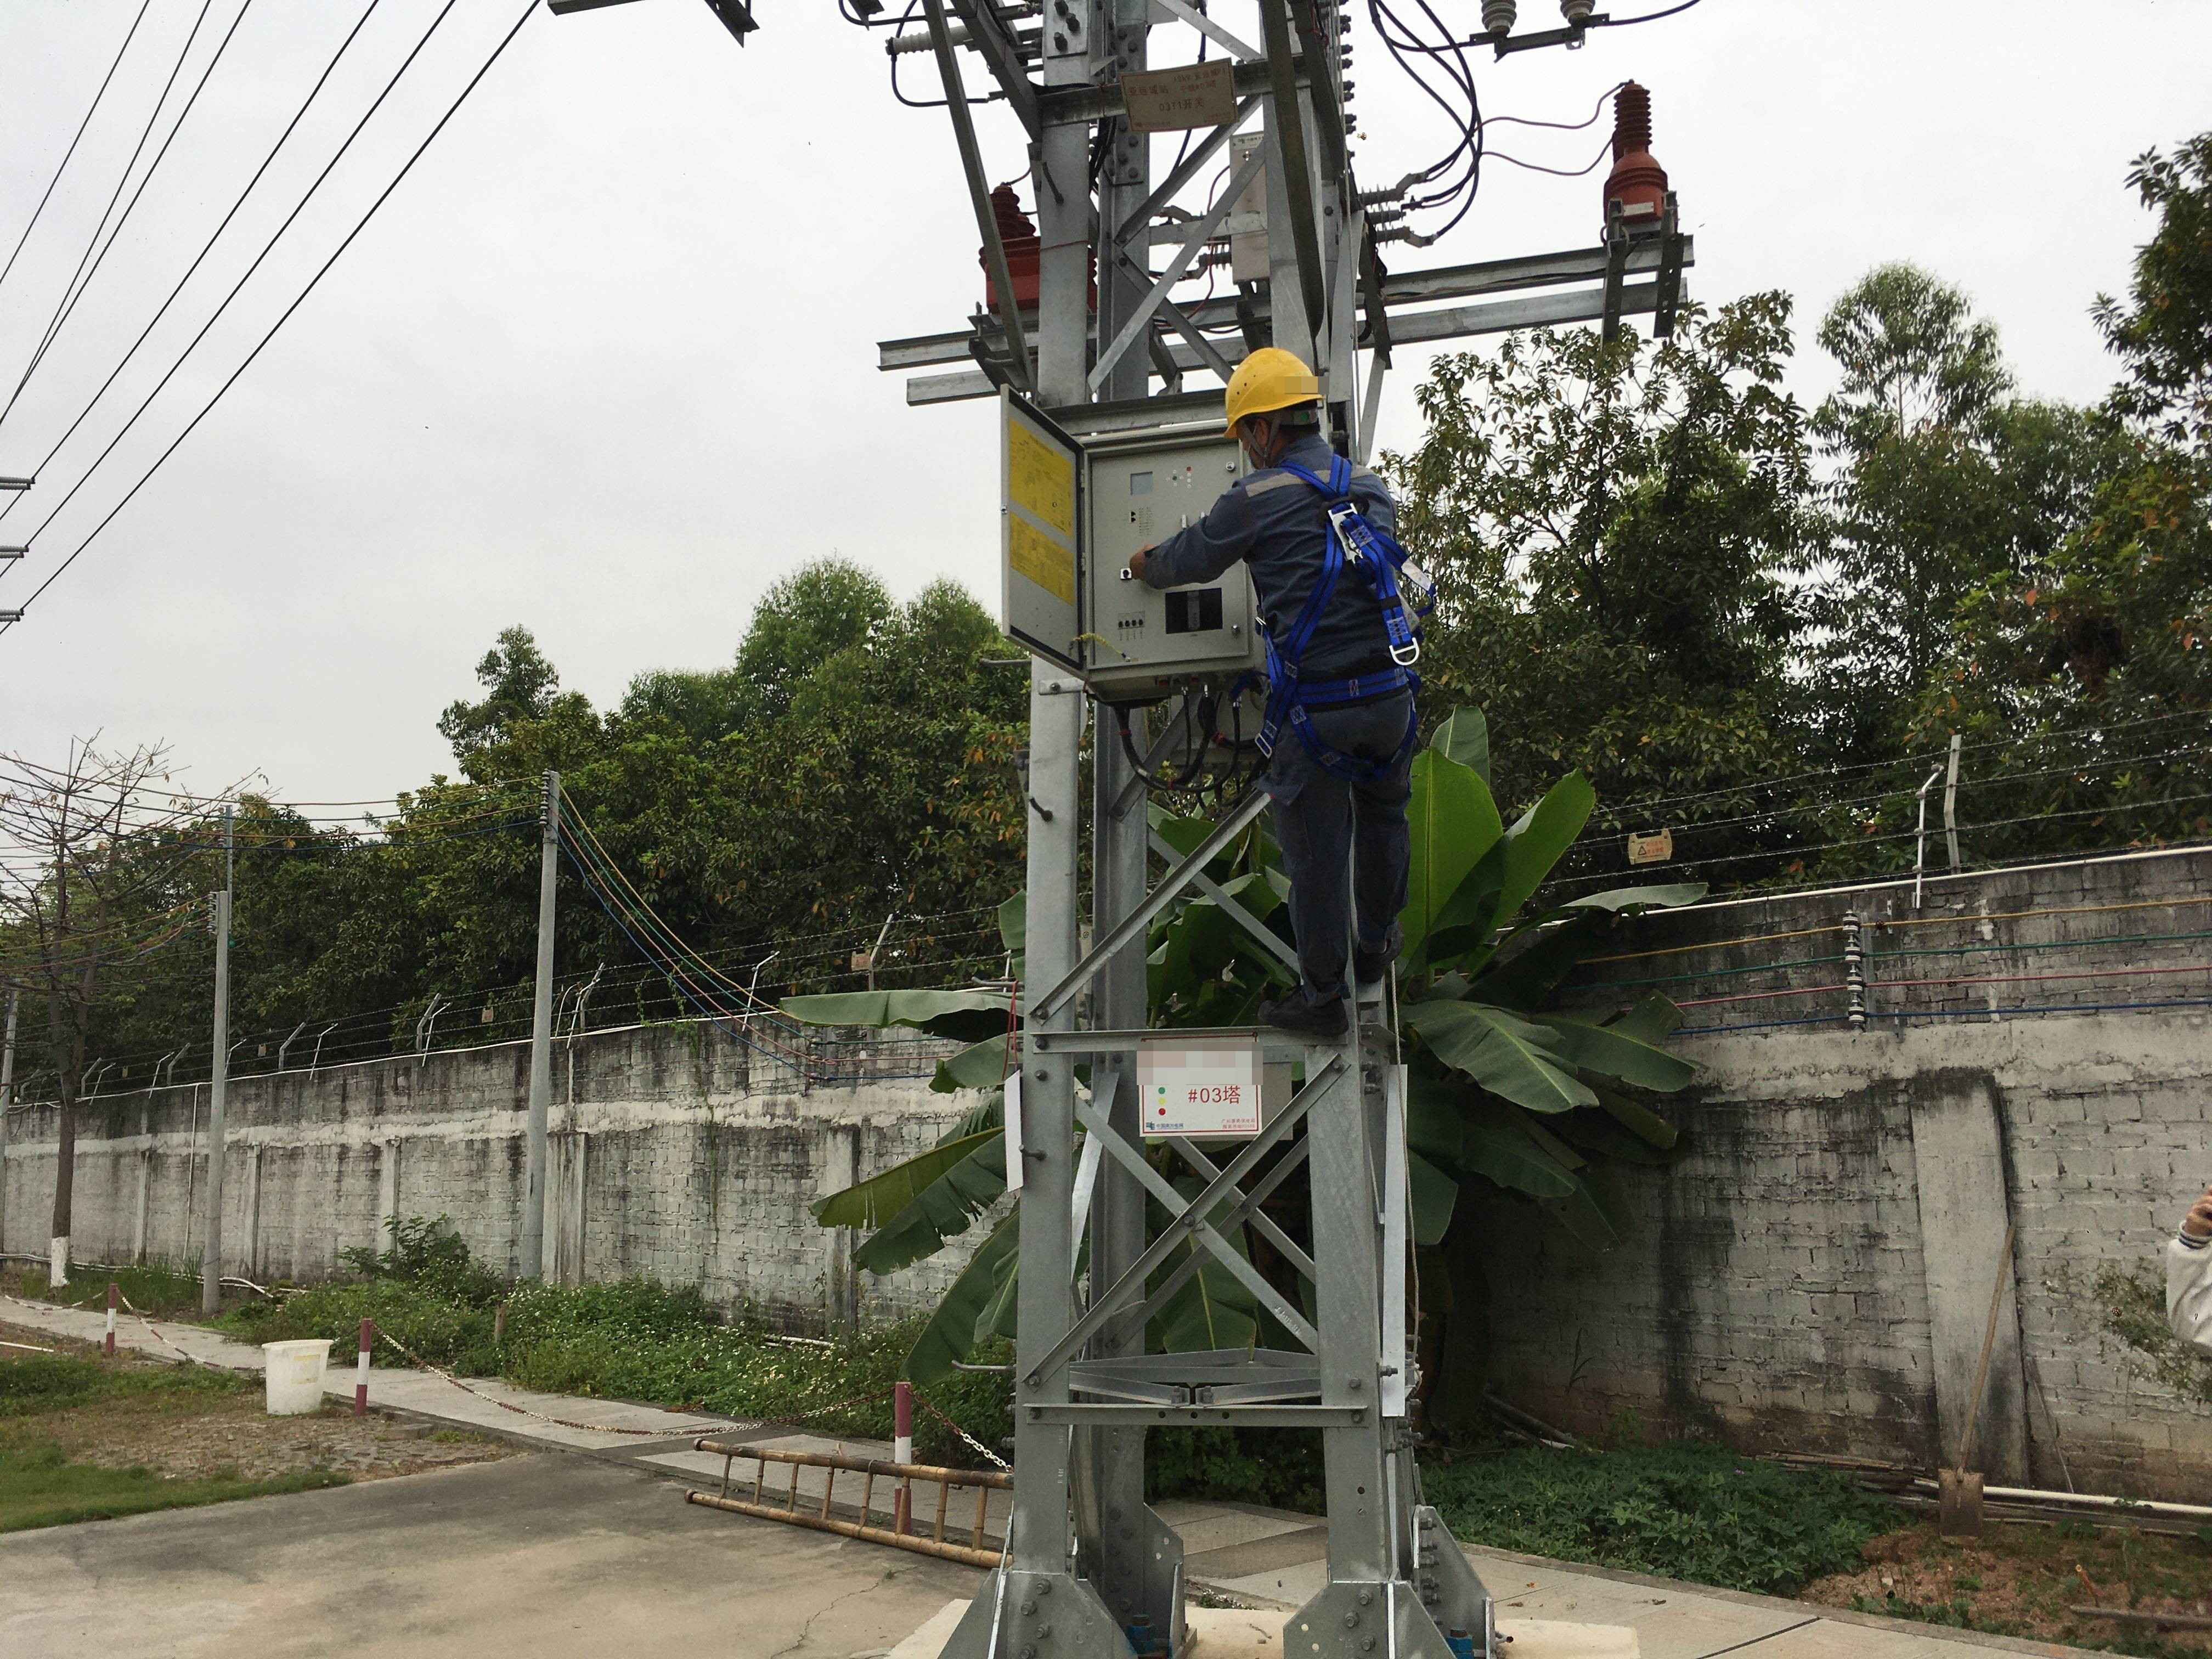downsuit: (1273, 701, 1413, 993)
upsuit: (1209, 464, 1406, 669)
